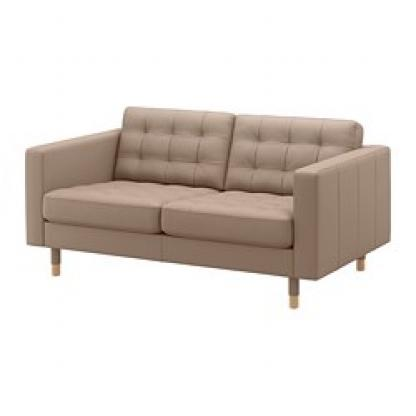Sofa: (18, 98, 391, 311)
